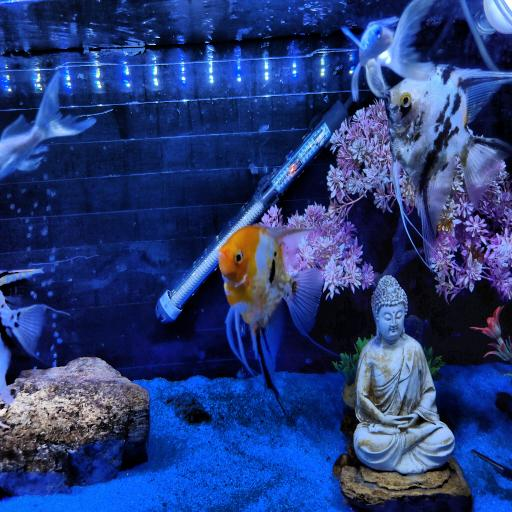Fish: (385, 65, 511, 264), (219, 226, 323, 397), (0, 72, 95, 178), (342, 0, 434, 101), (0, 269, 47, 403)
